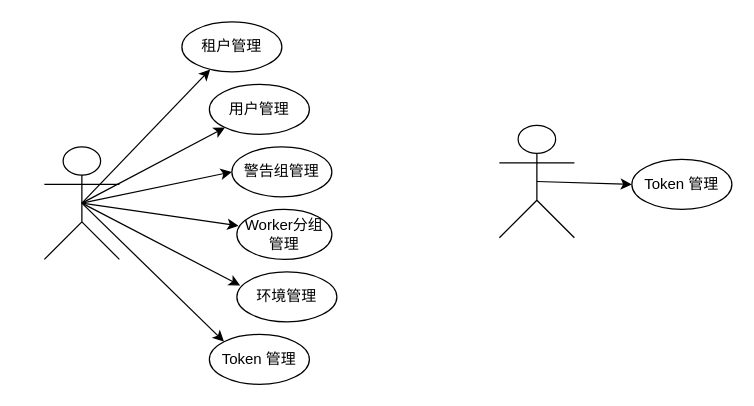
This 754x406 diagram has some shape labels left out. The centre of each missing label's shape, as x and y in pixels:
"普通用户" goes at point (536, 181).
"管理员用户 admin" goes at point (81, 202).
